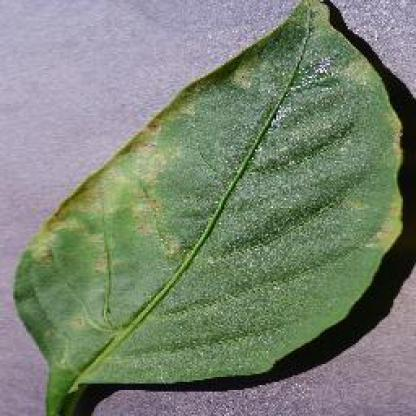bad leaf: (23, 5, 397, 412)
